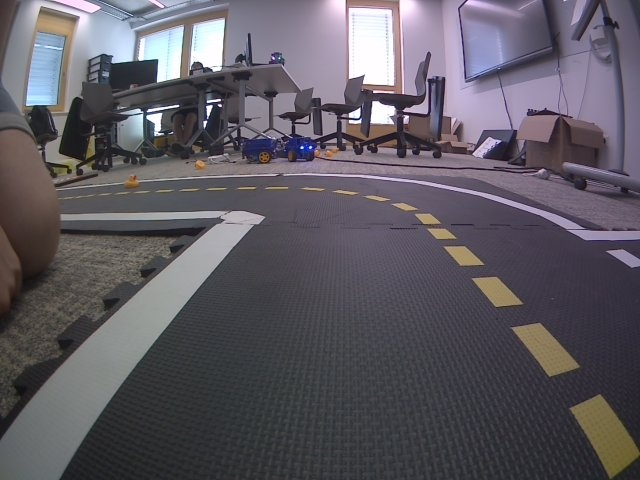Bot: (284, 136, 316, 162), (242, 140, 276, 163), (268, 52, 285, 67)
freeSpot: (568, 230, 640, 272)
